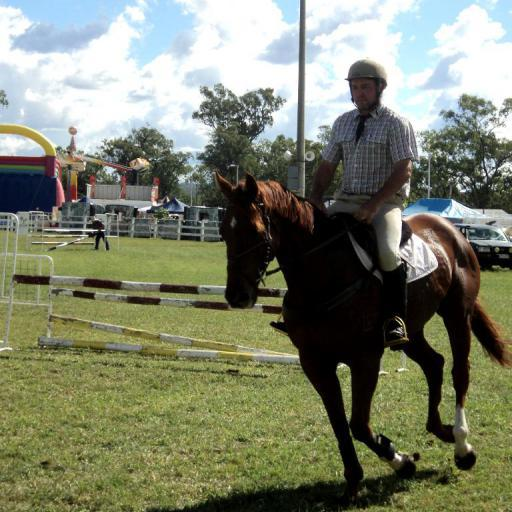Horse: (214, 167, 512, 508)
